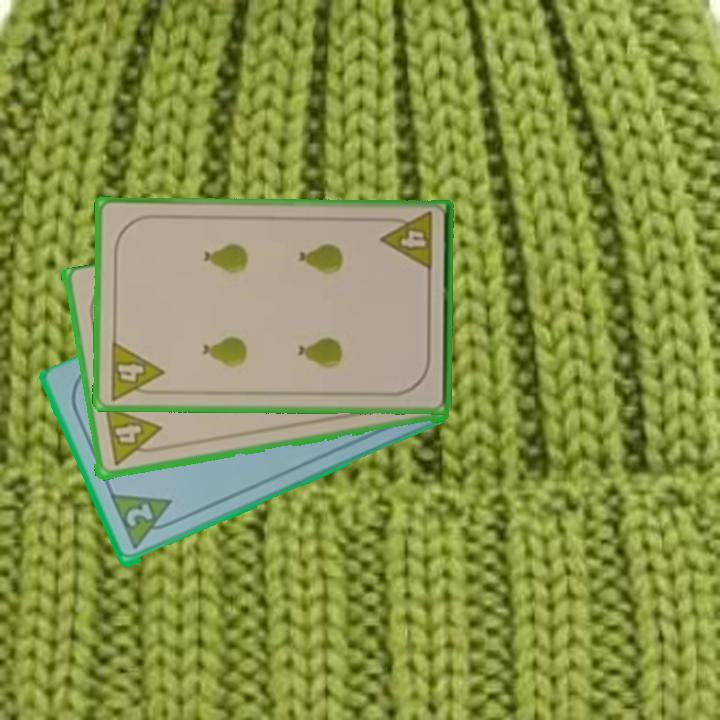2p: (107, 491, 182, 553)
4p: (101, 404, 166, 469), (106, 338, 166, 403), (378, 209, 436, 274)
